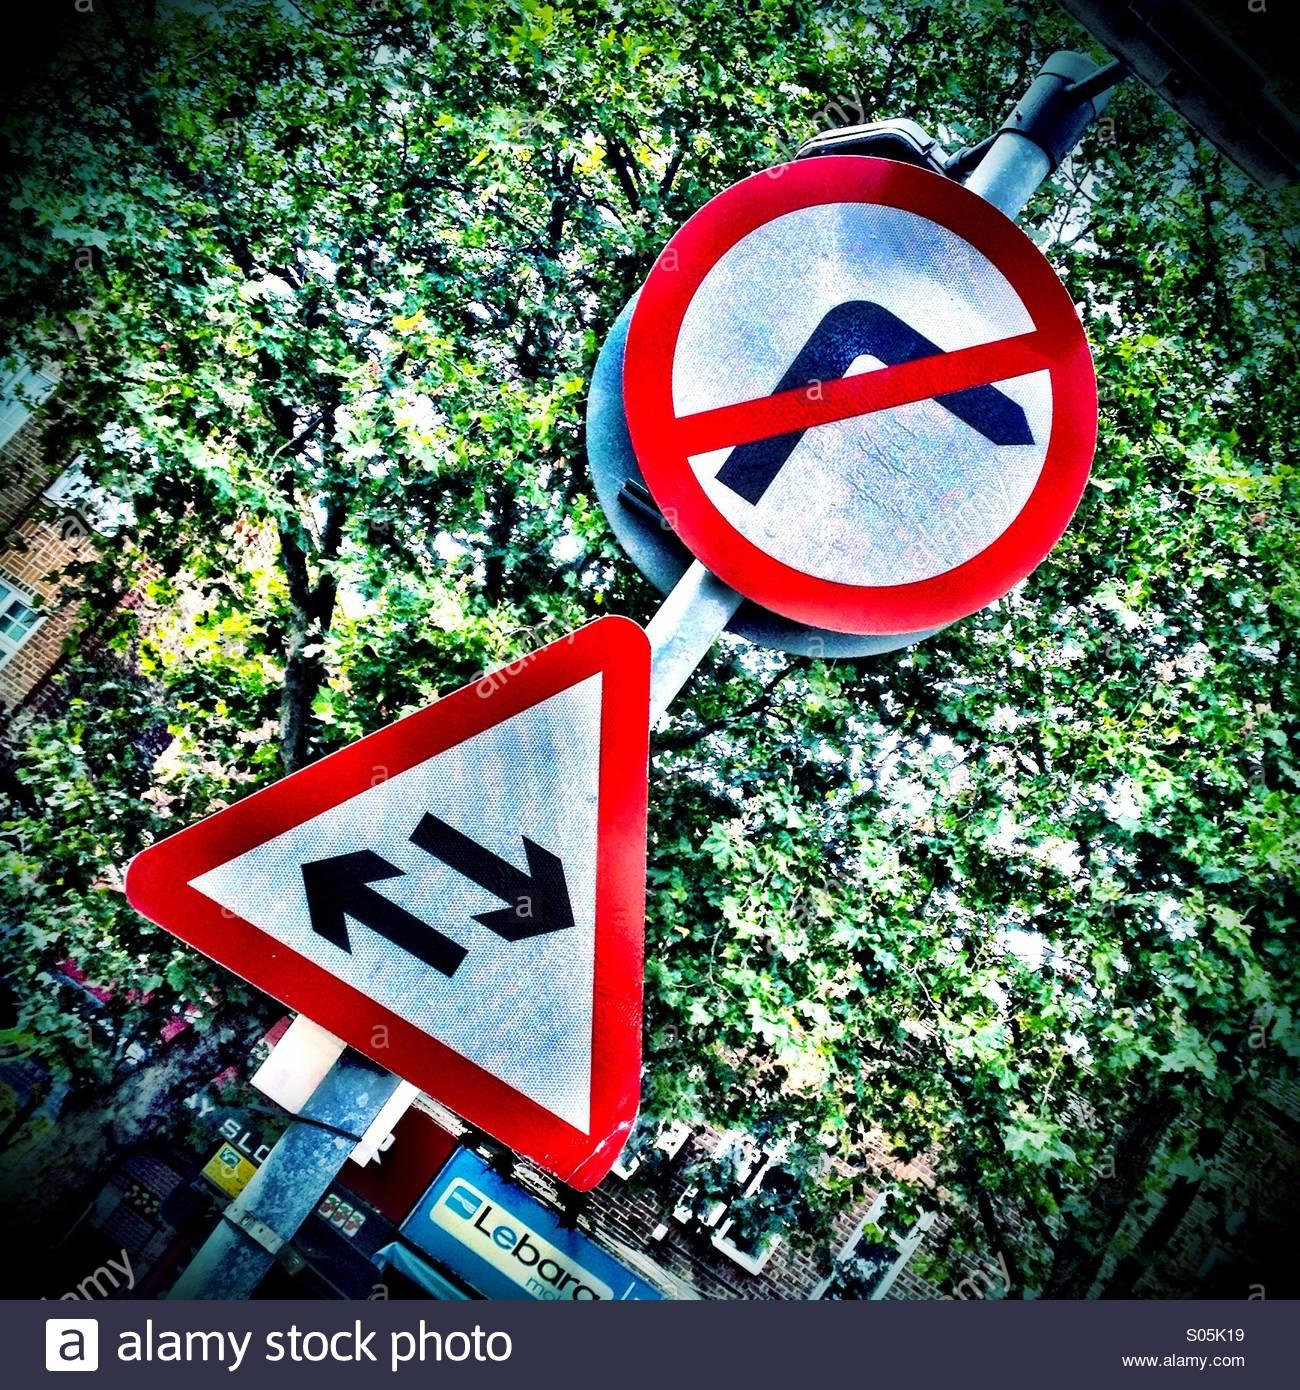no_right_turn: (621, 154, 1101, 634)
